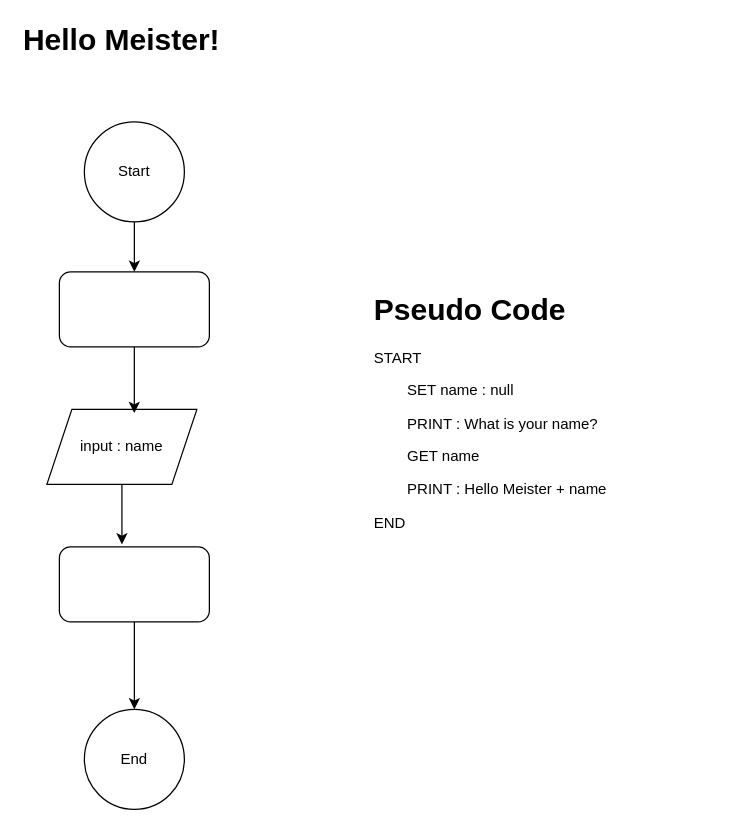
The diagram is 743 pixels wide and 831 high, and some of its shapes have lost their labels. The centre of each missing label's shape, as x and y in pixels:
"print: Hello Meister name" goes at [133,584].
"print: What is your name?" goes at [133,309].
